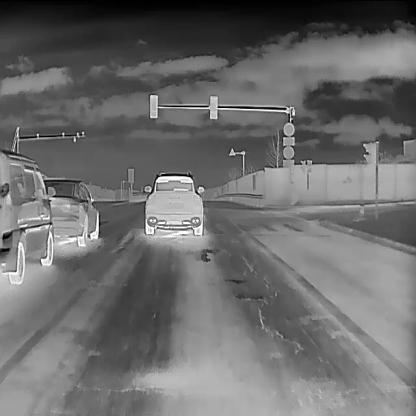car: (0, 148, 56, 283), (38, 177, 99, 246), (143, 169, 203, 236)
